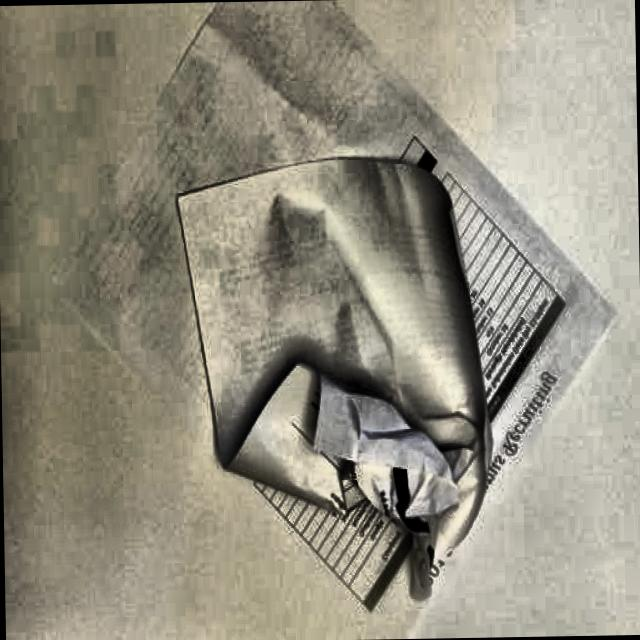paper: (123, 86, 606, 576)
